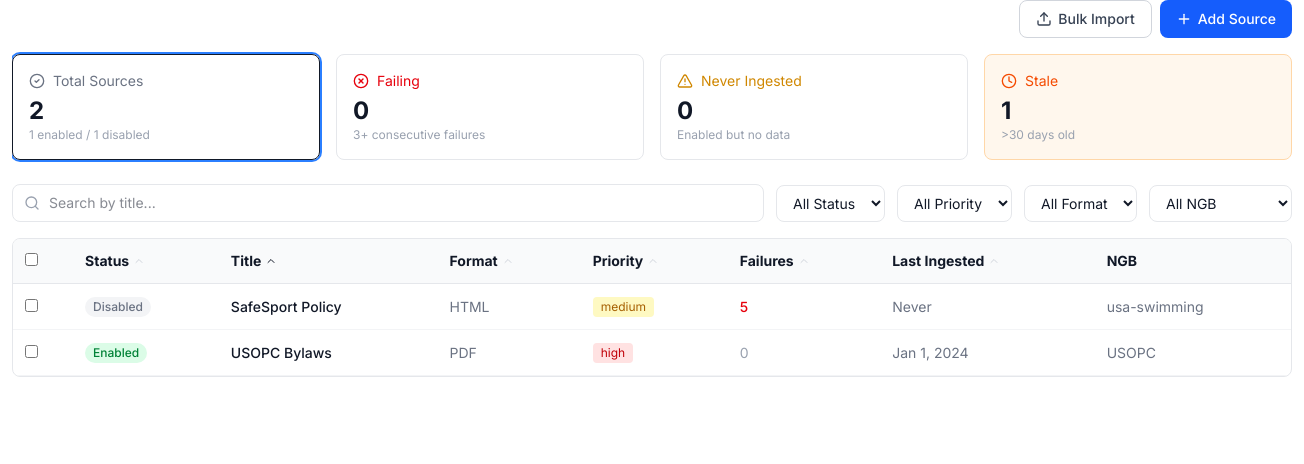
SourcesAdminClient › shows bulk action bar when items selected
The image size is (1304, 464).
Expected: the text "USOPC Bylaws" is shown, [219,330,438,376]
Note: First checkbox is "select all", next ones are individual rows
Click the checkbox in the row of "SafeSport Policy": (32, 305) [25,298,38,312]
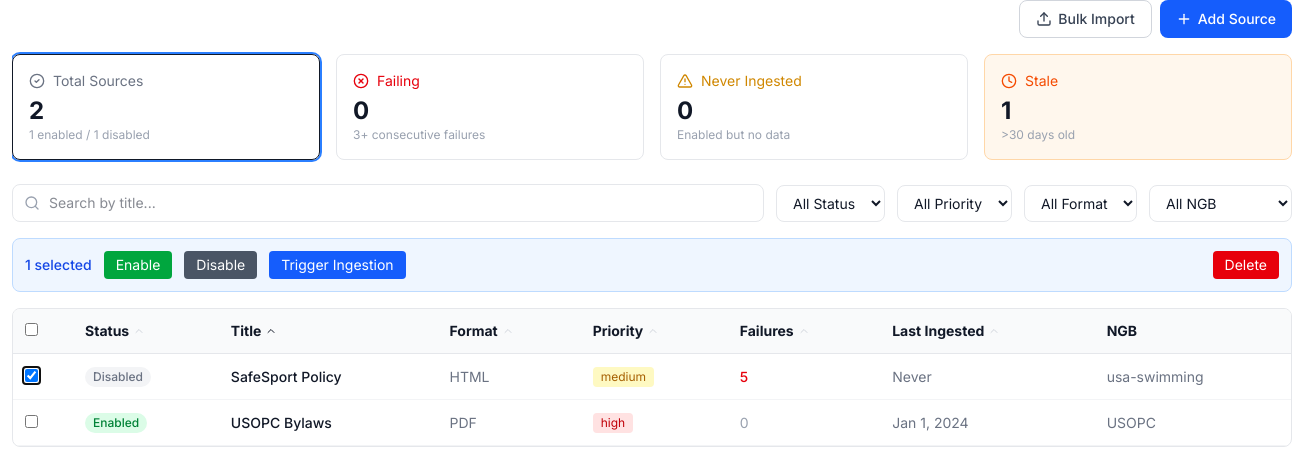
Now the text "1 selected" is shown, box [25,255,92,275]
Now the button "Enable" is shown, box [104,251,172,279]
Now the button "Disable" is shown, box [184,251,257,279]
